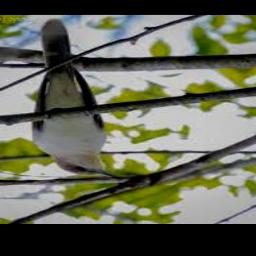Cuckoo: (34, 20, 119, 177)
